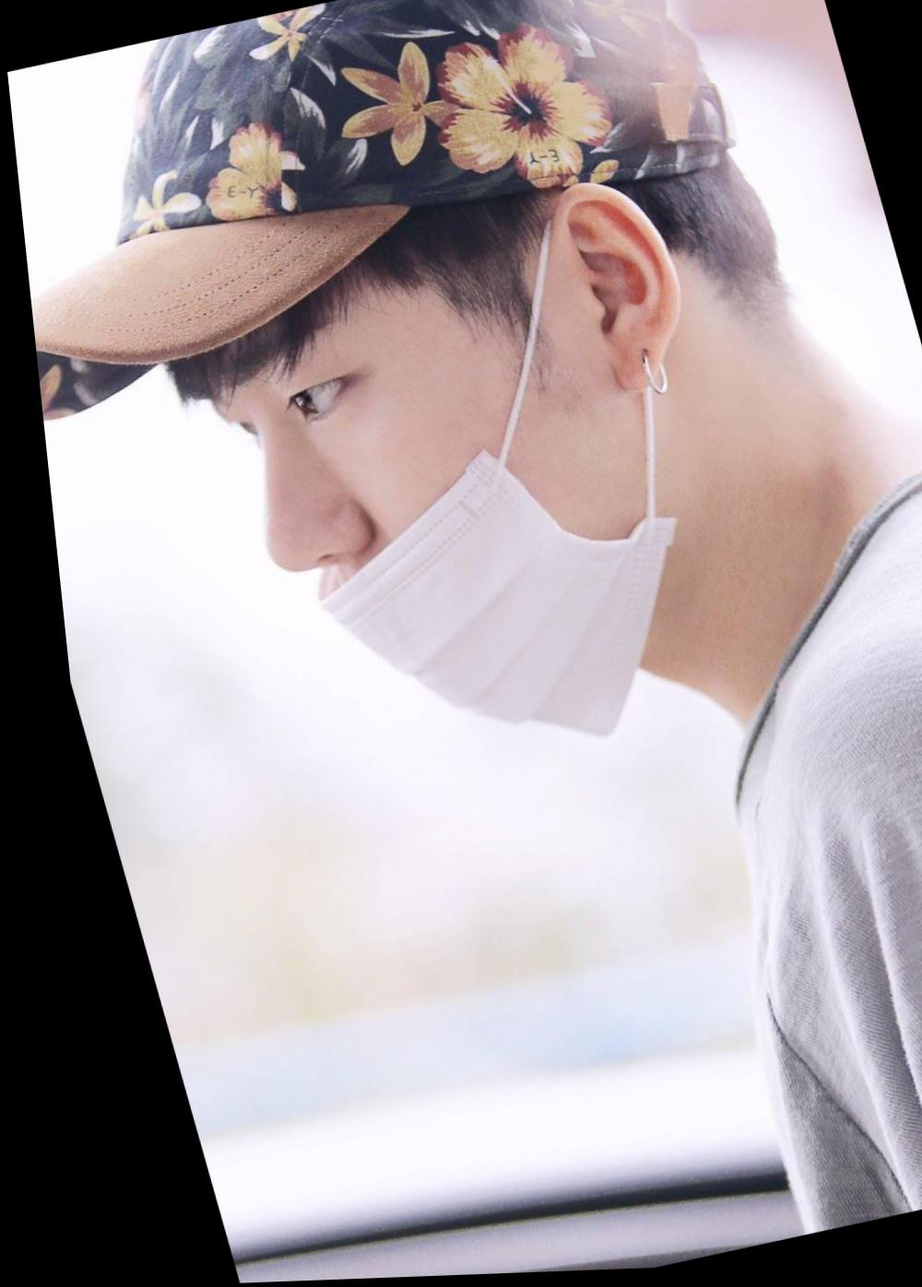WRONG: (164, 207, 763, 777)
